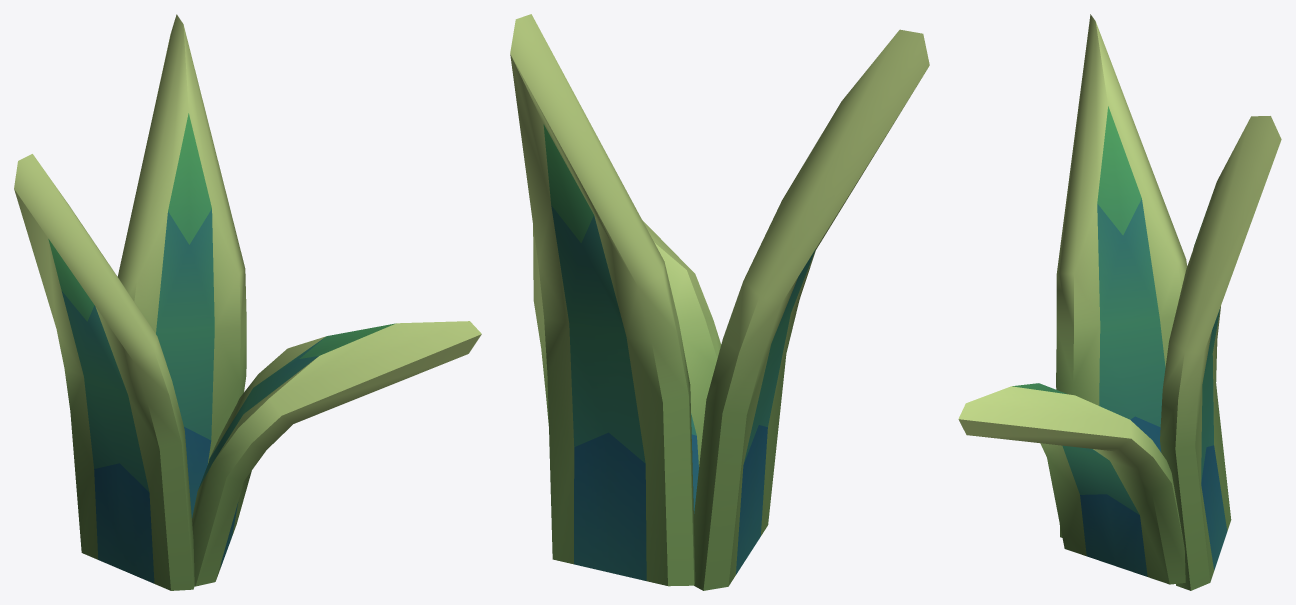
The model's file is house_plants_plants_small_sansevieria.glb.
The picture shows the model from 3 angles, left to right: view 1: azimuth 30°, elevation 25°; view 2: azimuth 150°, elevation 25°; view 3: azimuth 270°, elevation 25°; orthographic projection. The views are drawn at different scales.
Visible parts, largest first — view 1: sansevieria_plant_small; view 2: sansevieria_plant_small; view 3: sansevieria_plant_small.
Part boxes in pixels (x1,y1,x2,y2): sansevieria_plant_small: [14, 14, 481, 590]; sansevieria_plant_small: [510, 14, 929, 590]; sansevieria_plant_small: [958, 14, 1281, 590].
Size of the model in its own units: 0.7155 by 0.8228 by 0.5099.
Materials: 1 (1 with a texture image).
